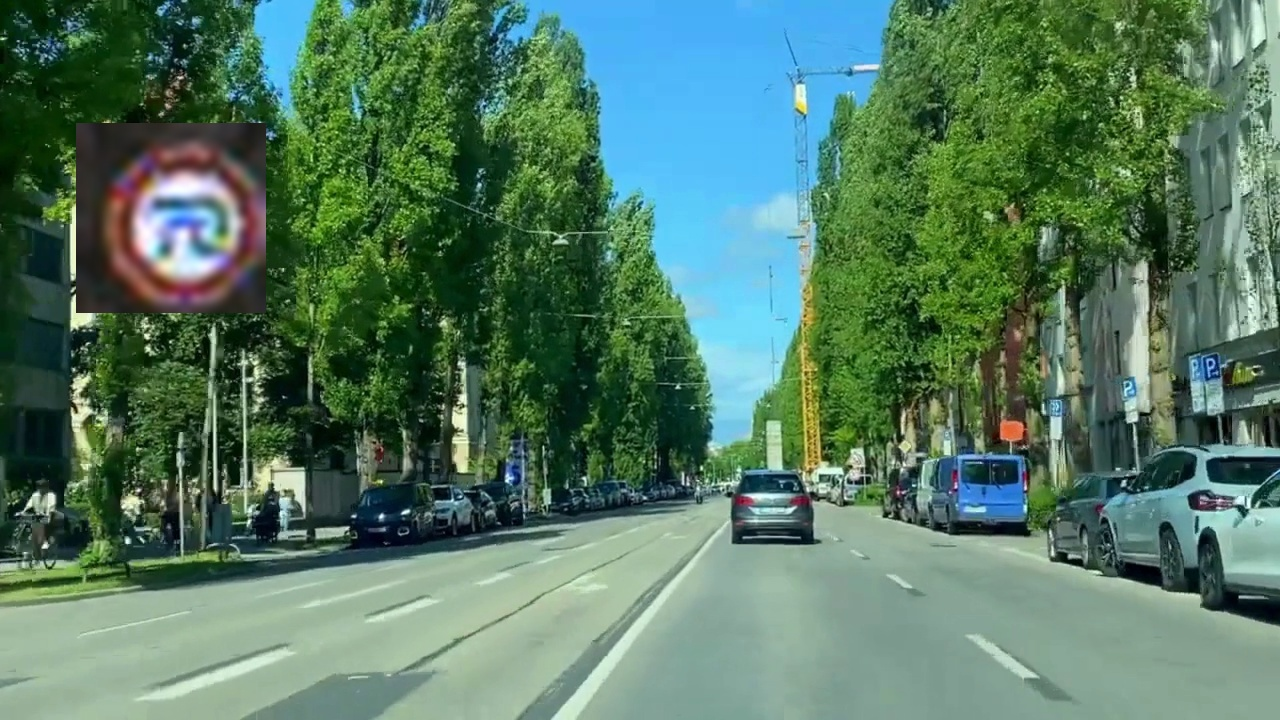Speed 70: (76, 123, 266, 313)
